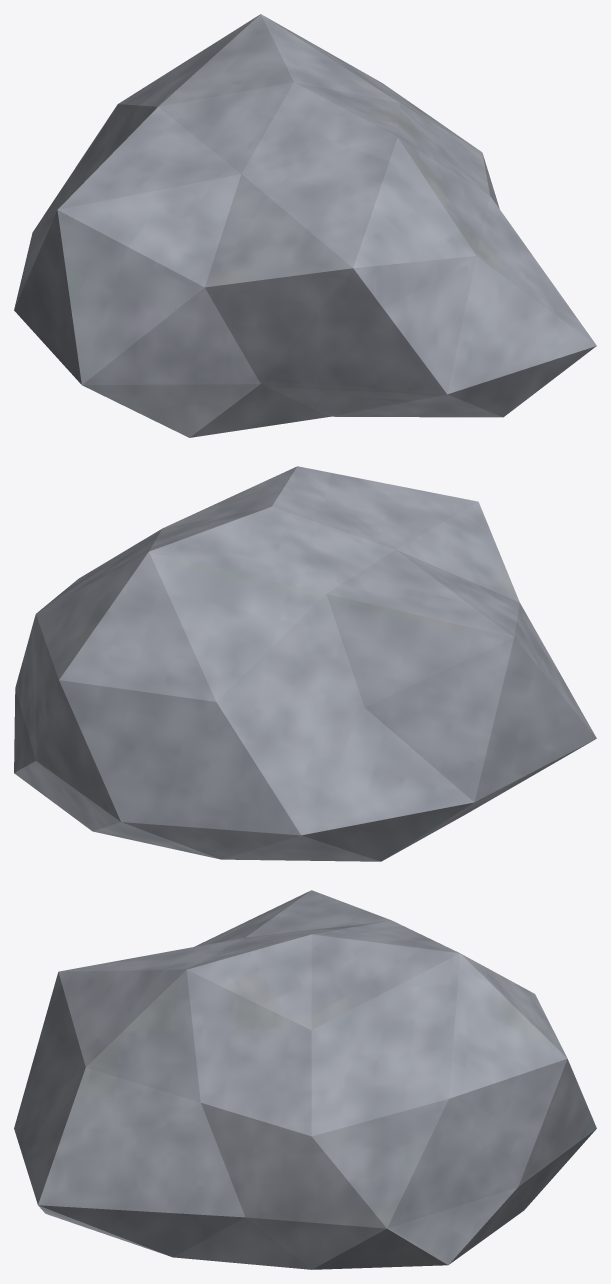
The model's file is shore_rock.glb.
3 views of the same model, one above another, from view 1: azimuth 30°, elevation 25°; view 2: azimuth 150°, elevation 25°; view 3: azimuth 270°, elevation 25° (orthographic). The views are drawn at different scales.
Visible parts, largest first — view 1: shore_rock; view 2: shore_rock; view 3: shore_rock.
Part boxes in pixels (<box>): shore_rock: <box>14,14,596,437</box>; shore_rock: <box>14,466,596,861</box>; shore_rock: <box>14,890,596,1269</box>.
Size of the model in its own units: 2.01 by 1.03 by 2.2.
Materials: 1 (1 with a texture image).
